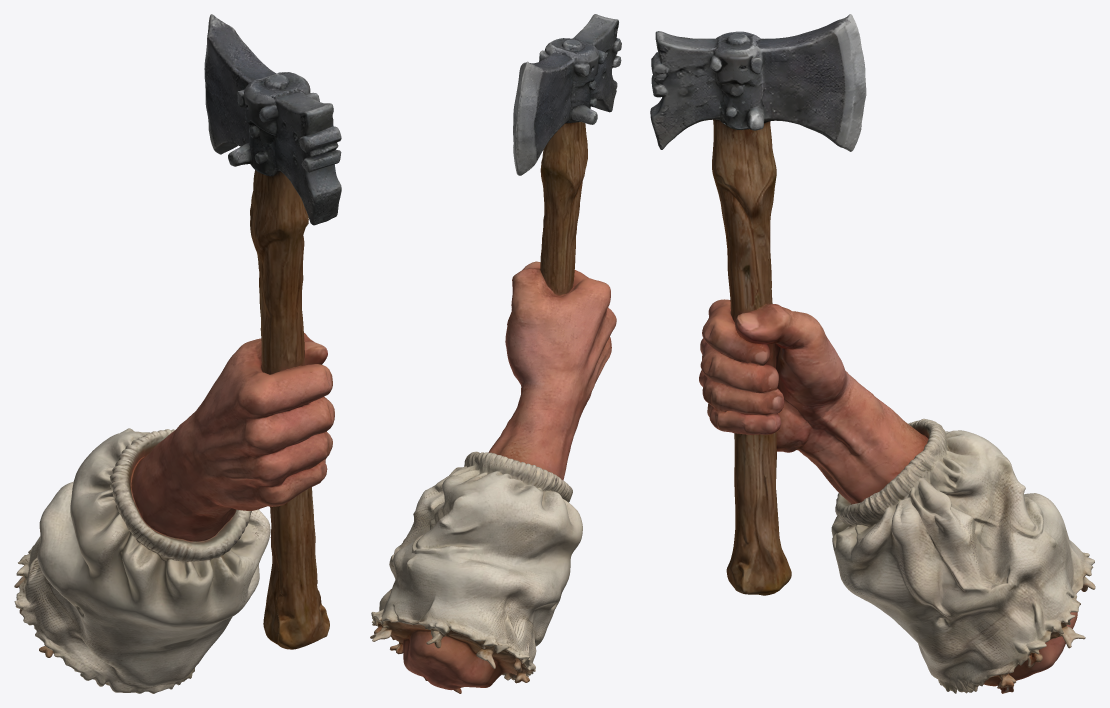
The picture shows the model from 3 angles, left to right: view 1: azimuth 30°, elevation 25°; view 2: azimuth 150°, elevation 25°; view 3: azimuth 270°, elevation 25°; orthographic projection. The views are drawn at different scales.
Visible parts, largest first — view 1: tripo_node_114c0534-b70a-4831-8fb0-6eb49f93abe5; view 2: tripo_node_114c0534-b70a-4831-8fb0-6eb49f93abe5; view 3: tripo_node_114c0534-b70a-4831-8fb0-6eb49f93abe5.
Part boxes in pixels (x1,y1,x2,y2): tripo_node_114c0534-b70a-4831-8fb0-6eb49f93abe5: (14,14,341,693); tripo_node_114c0534-b70a-4831-8fb0-6eb49f93abe5: (370,14,621,693); tripo_node_114c0534-b70a-4831-8fb0-6eb49f93abe5: (650,14,1095,693).
Bounding box in the file's own units: 0.2813 × 1 × 0.6029.
Materials: 1 (1 with a texture image).
